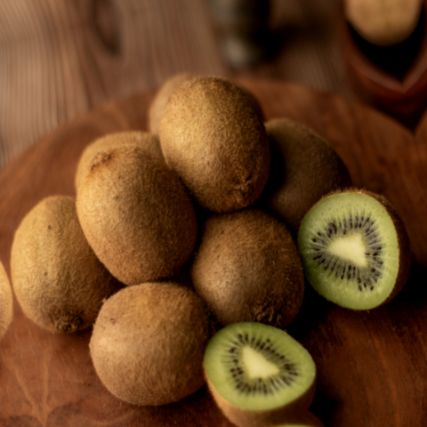kiwi: (65, 265, 244, 418), (60, 124, 221, 292), (175, 191, 331, 353), (144, 54, 292, 219), (0, 184, 130, 358)
